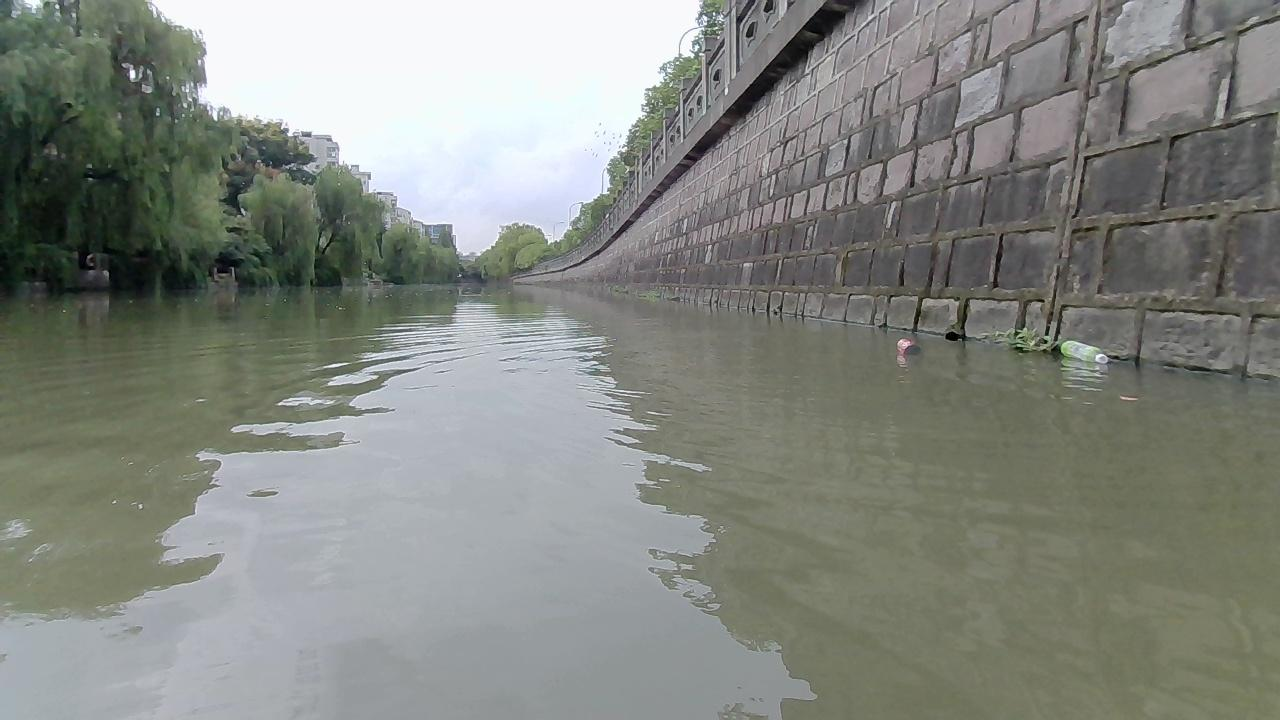bottle: (1058, 338, 1108, 362), (895, 337, 921, 354)
